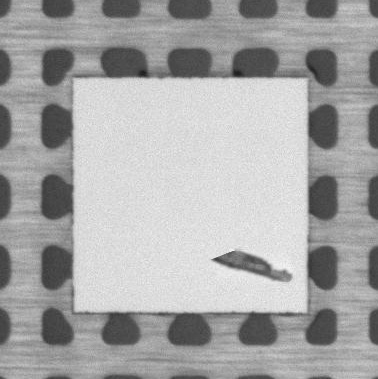DIE_INK: (213, 247, 295, 283)
